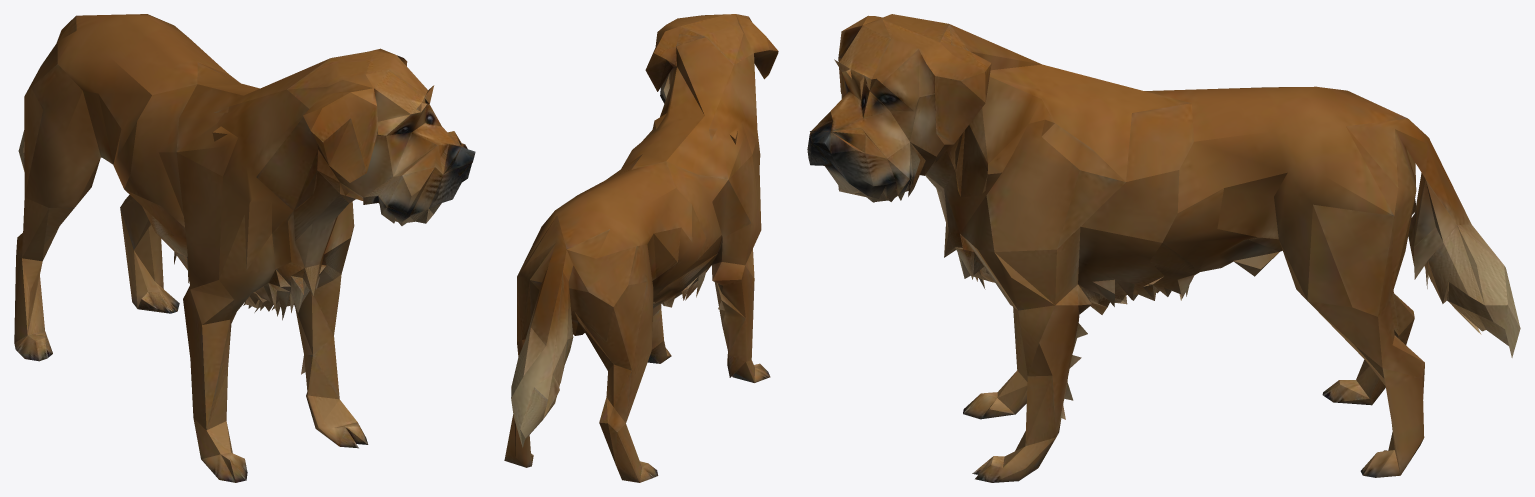
Rendered from world-dog.glb.
3 renders of one model, left to right at view 1: azimuth 30°, elevation 25°; view 2: azimuth 150°, elevation 25°; view 3: azimuth 270°, elevation 25°, orthographic. The views are drawn at different scales.
Bounding box in the file's own units: 0.7 × 1.28 × 1.89.
1 material, 1 textured.
